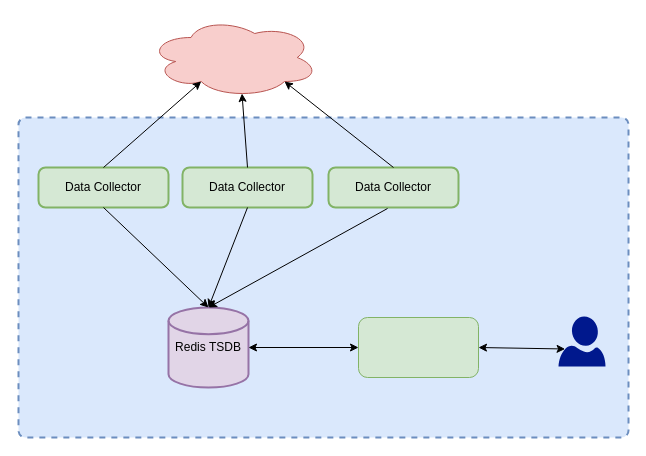
Some shapes in this 646 by 456 pixel diagram are drawn without their labels. The shapes that lost their labels are listed below. From the top down, each one's centre as x and y in pixels, then its label:
At point (233, 57): "External Source".
At point (418, 347): "Internal Data Service (gRPC / REST)".
